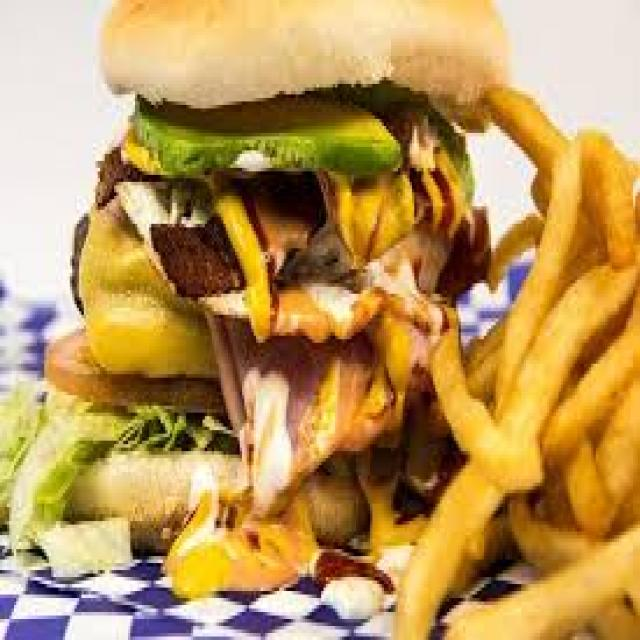Burger: (22, 0, 498, 533)
French Fries: (435, 74, 638, 636)
